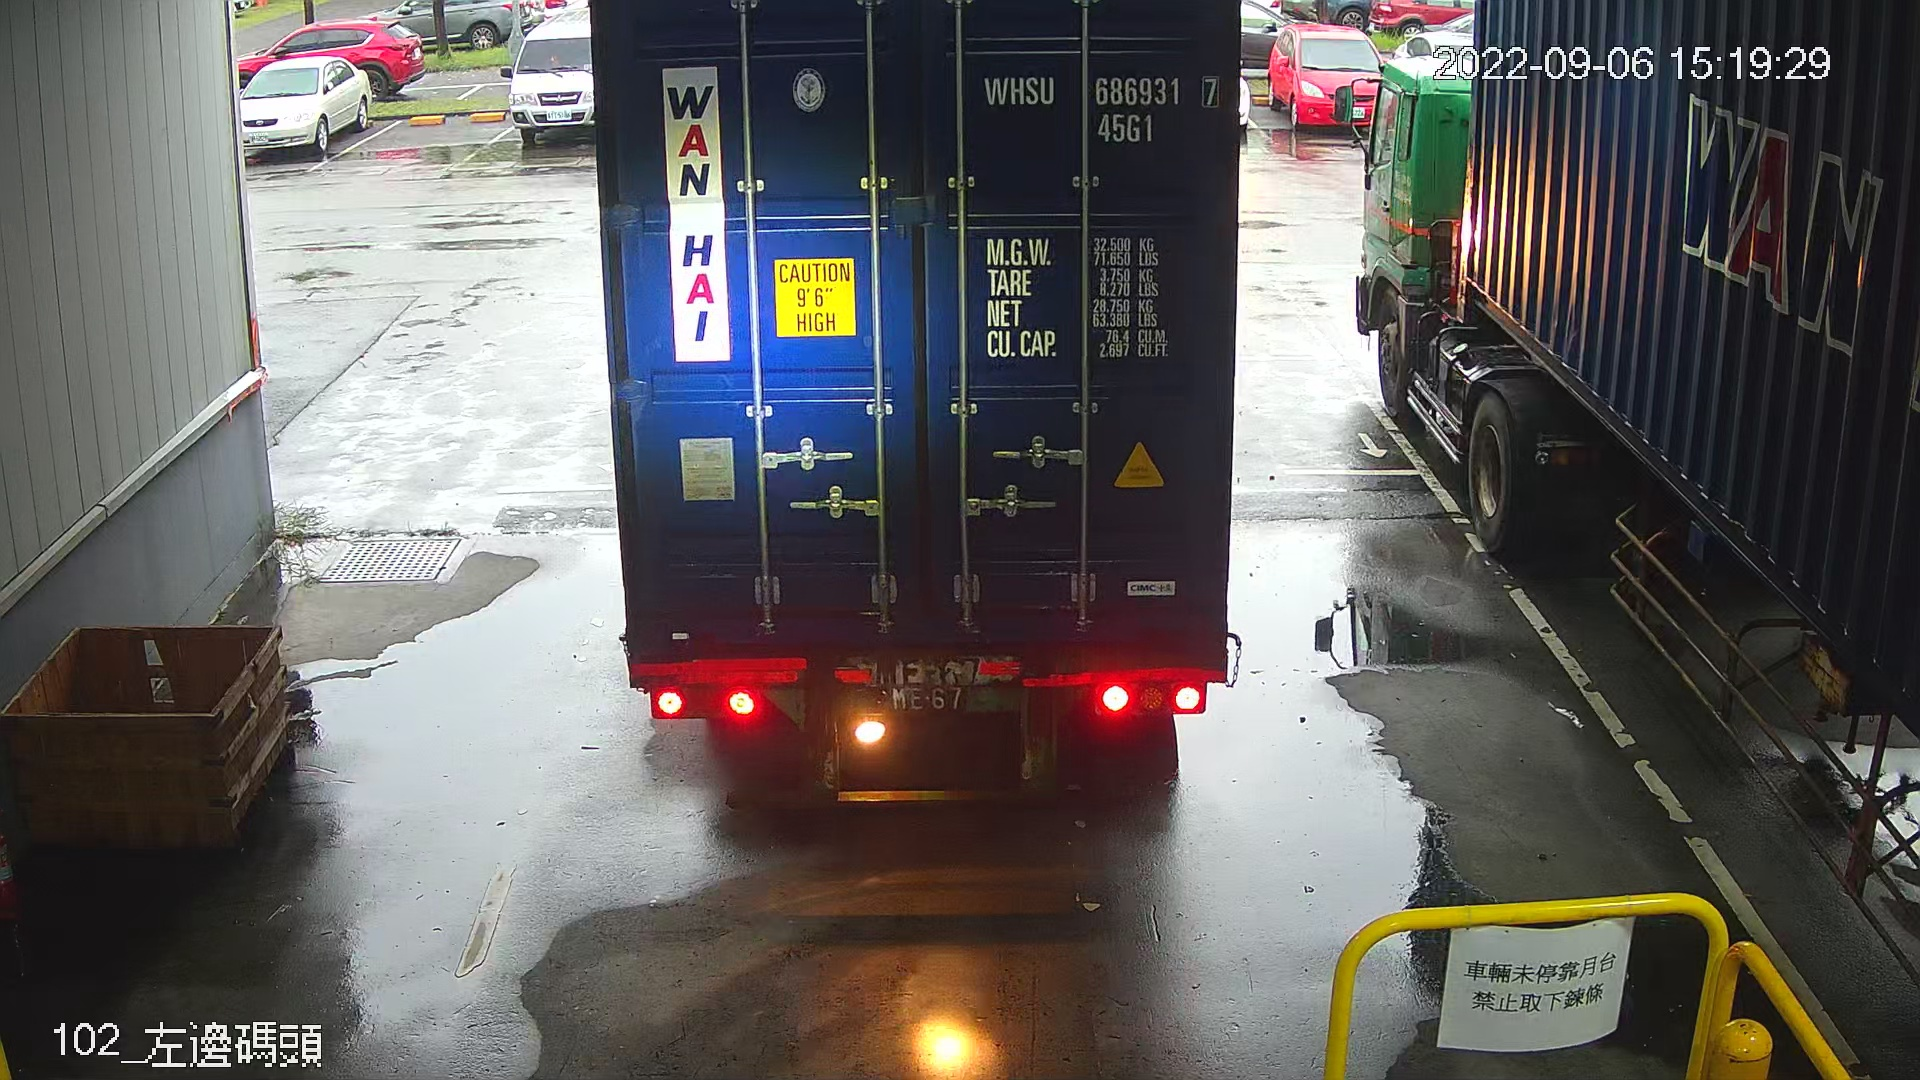container: (972, 63, 1229, 160)
